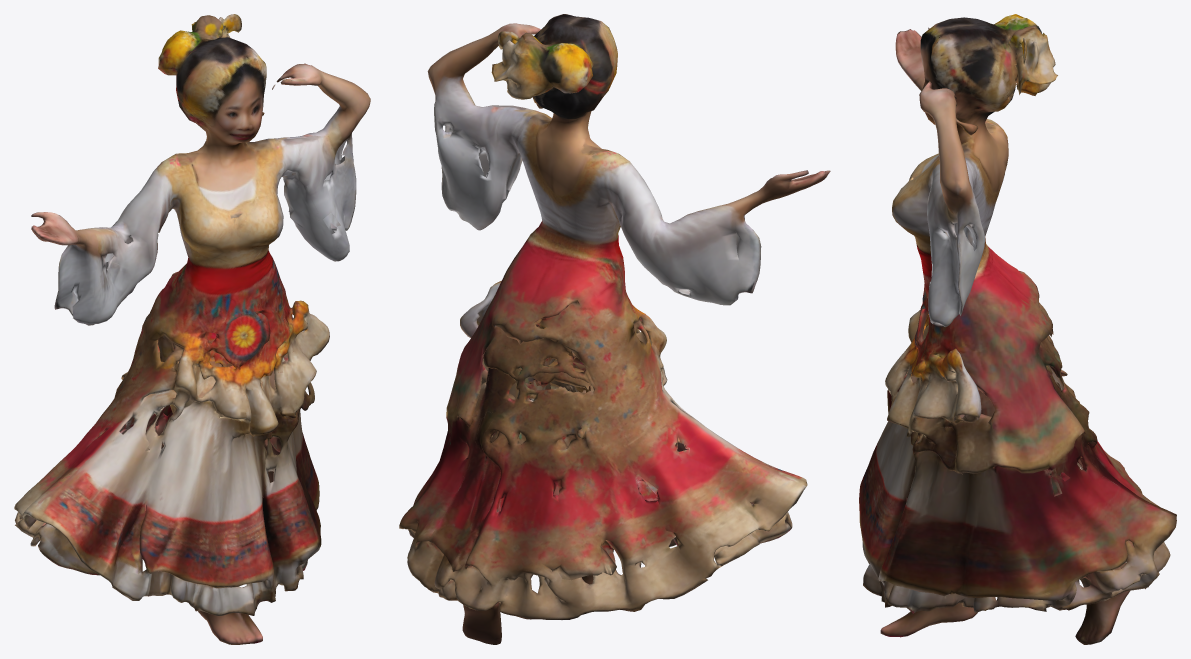
Rendered from woman.fbx.
3 views of the same model, side by side, from view 1: azimuth 30°, elevation 25°; view 2: azimuth 150°, elevation 25°; view 3: azimuth 270°, elevation 25° (orthographic). The views are drawn at different scales.
Visible parts, largest first — view 1: Mesh1_Mesh1.021; view 2: Mesh1_Mesh1.021; view 3: Mesh1_Mesh1.021.
Part boxes in pixels (<box>): Mesh1_Mesh1.021: <box>14,14,370,644</box>; Mesh1_Mesh1.021: <box>399,14,830,644</box>; Mesh1_Mesh1.021: <box>859,14,1176,644</box>.
Bounding box in the file's own units: 129 × 197 × 91.65.
1 material, 1 textured.
